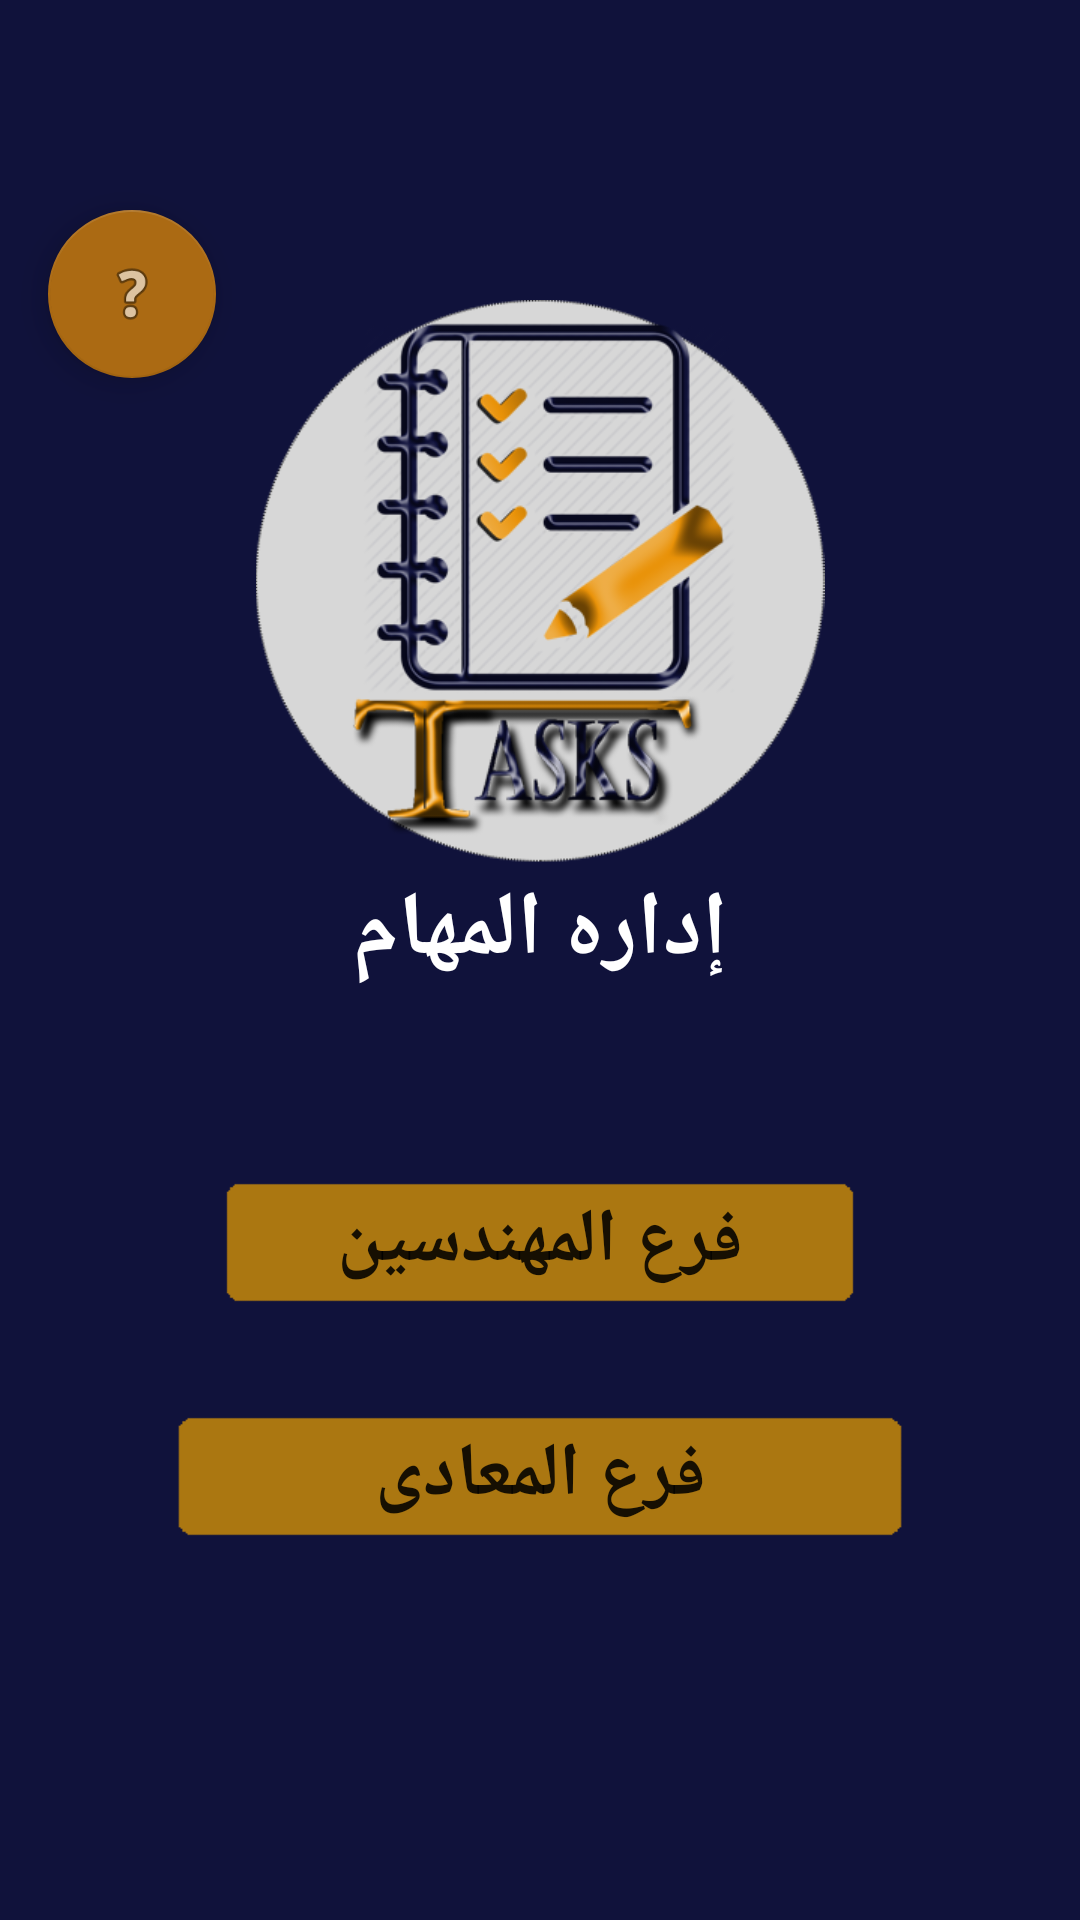

Icon click points for this 1080 x 1920 phone screenshot, format (x,y):
help: (132,294)
